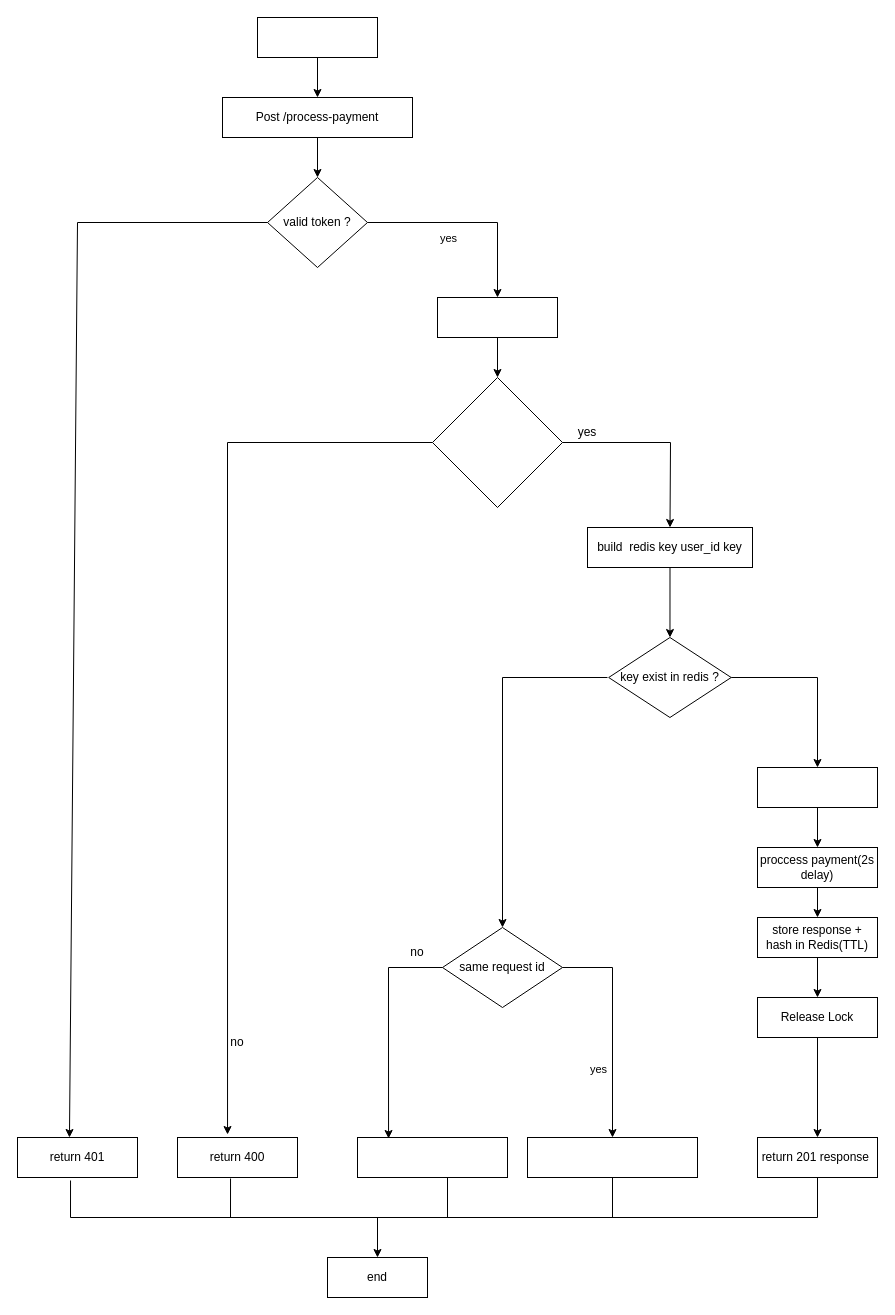
Some shapes in this 895 by 1315 pixel diagram are drawn without their labels. Each missing label, with the box of its shape:
Acquire Lock in Redis: (756, 766, 878, 808)
extract user_id: (436, 296, 558, 338)
idempotency_key present ?: (432, 376, 562, 508)
return 409 conflict: (356, 1136, 508, 1178)
return cached response + X-cache-Hit: (526, 1136, 698, 1178)
start: (256, 16, 378, 58)
